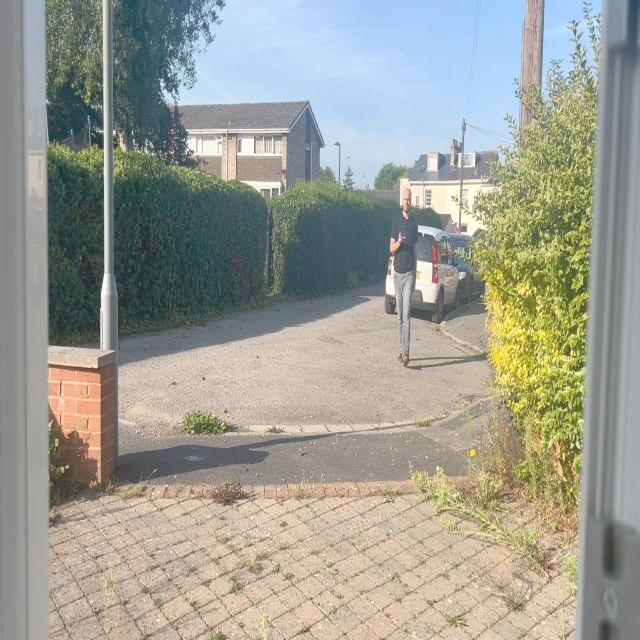phone: (401, 226, 405, 242)
